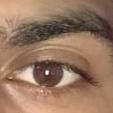open: (7, 44, 104, 103)
